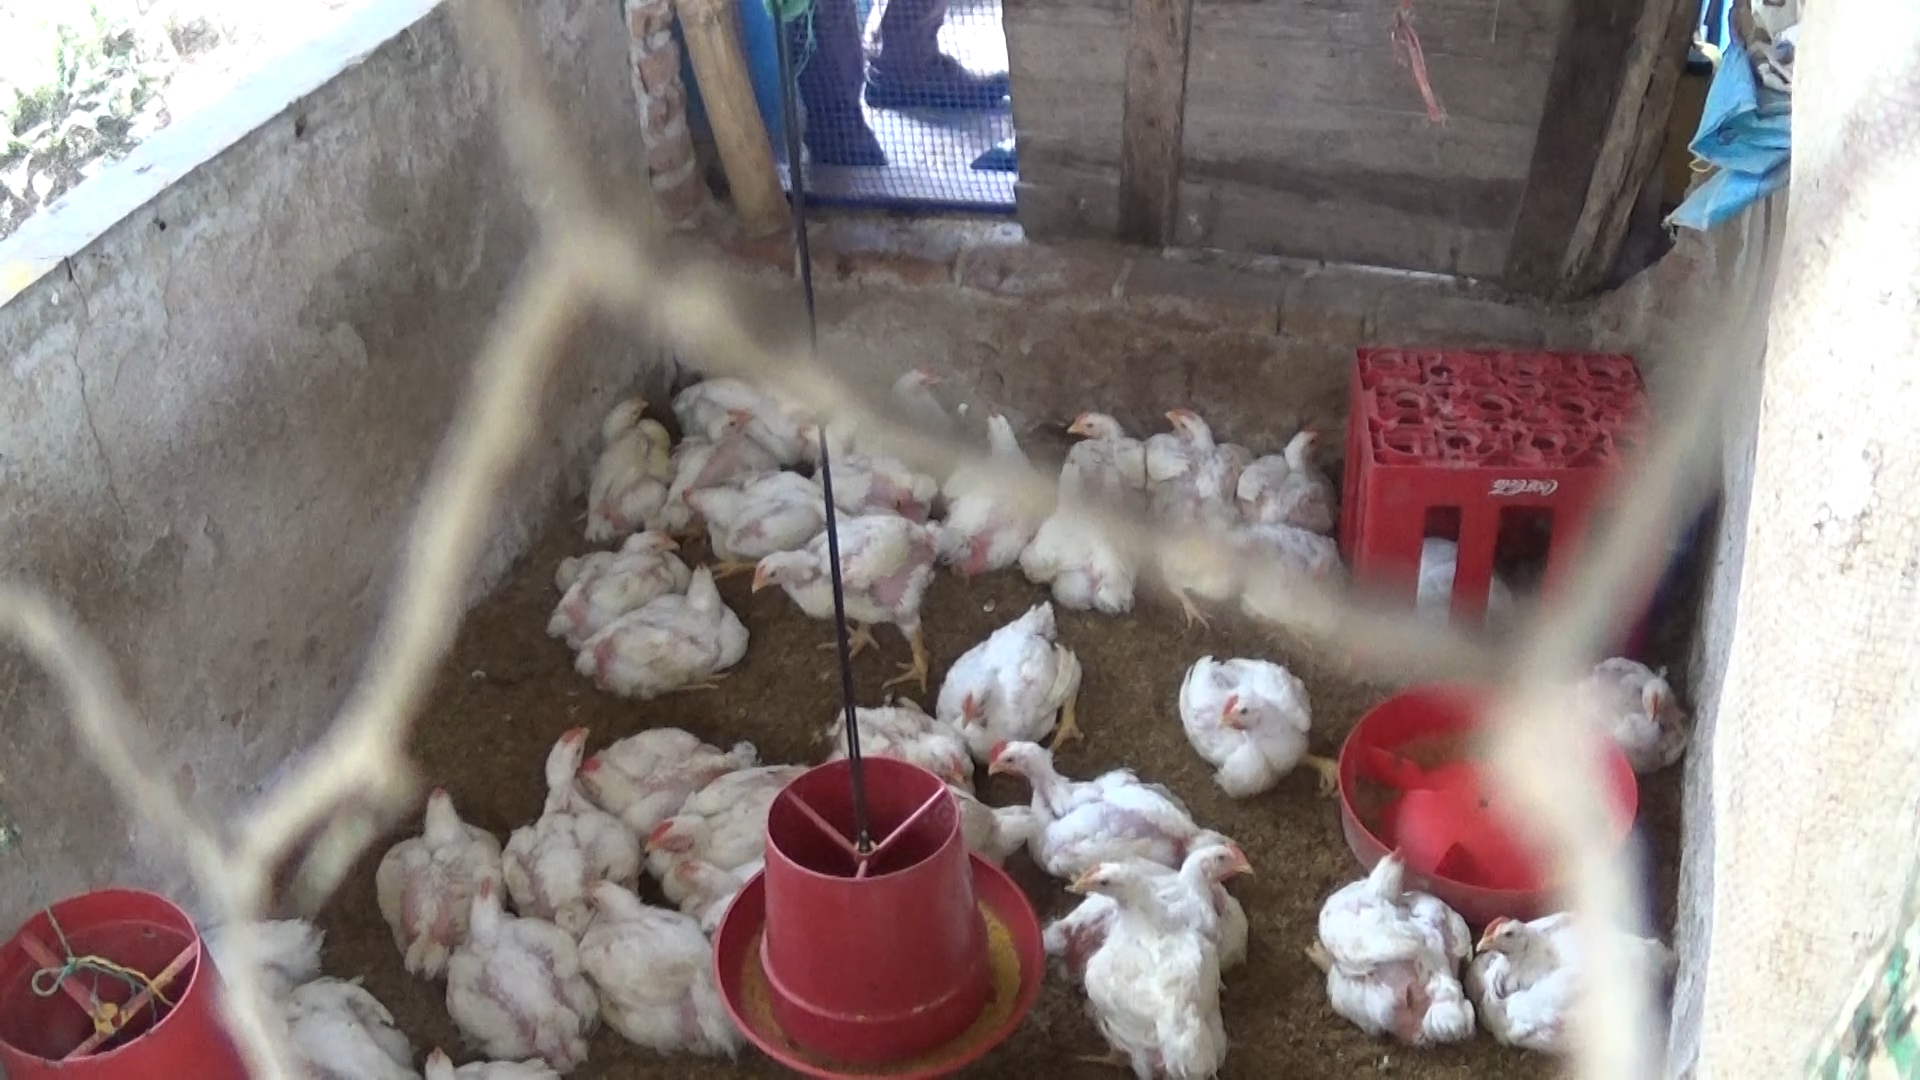Pollos: (1060, 847, 1232, 1073), (740, 508, 949, 688), (566, 862, 748, 1054), (429, 880, 600, 1062), (498, 717, 646, 918), (1466, 907, 1673, 1048), (981, 737, 1200, 866), (611, 766, 811, 905), (1178, 644, 1327, 804), (376, 773, 502, 961), (926, 404, 1062, 575), (578, 568, 760, 694), (1331, 891, 1476, 1043), (574, 713, 745, 823), (659, 382, 789, 525), (951, 607, 1077, 752), (554, 522, 695, 633), (825, 691, 969, 796), (574, 382, 663, 545), (1137, 404, 1247, 533), (1575, 647, 1680, 773), (1309, 845, 1414, 968), (1233, 415, 1338, 533), (676, 472, 825, 554), (1047, 409, 1151, 517), (866, 361, 956, 443), (1164, 839, 1259, 914)
